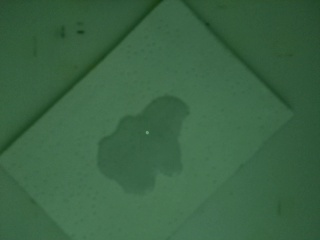Water_detected: (107, 106, 186, 186)
